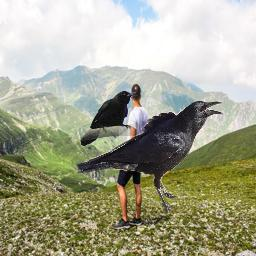Crow: (76, 100, 224, 215), (80, 91, 136, 146)
